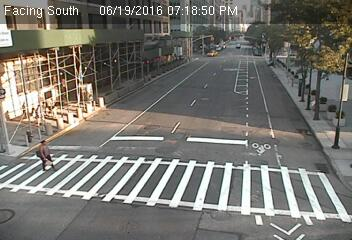neg: (186, 104, 212, 139), (238, 96, 259, 123), (217, 56, 233, 76), (238, 146, 250, 162), (194, 78, 205, 93), (235, 40, 245, 54)
pos: (29, 136, 57, 173), (30, 102, 46, 123)
